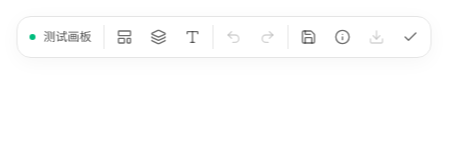
DesignInlineEditor › does not switch editors when saving fails
This screenshot has width=449, height=160.
Click the button named "画板详情" at (342, 37), box [326,21,358,53]
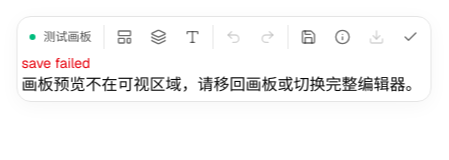
Check: the text "save failed" is shown, box [22,54,90,72]
